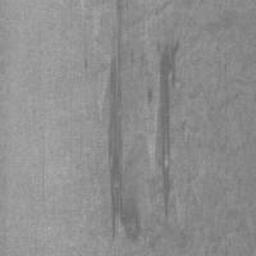Inclusion: (101, 0, 143, 244), (154, 44, 179, 214)
